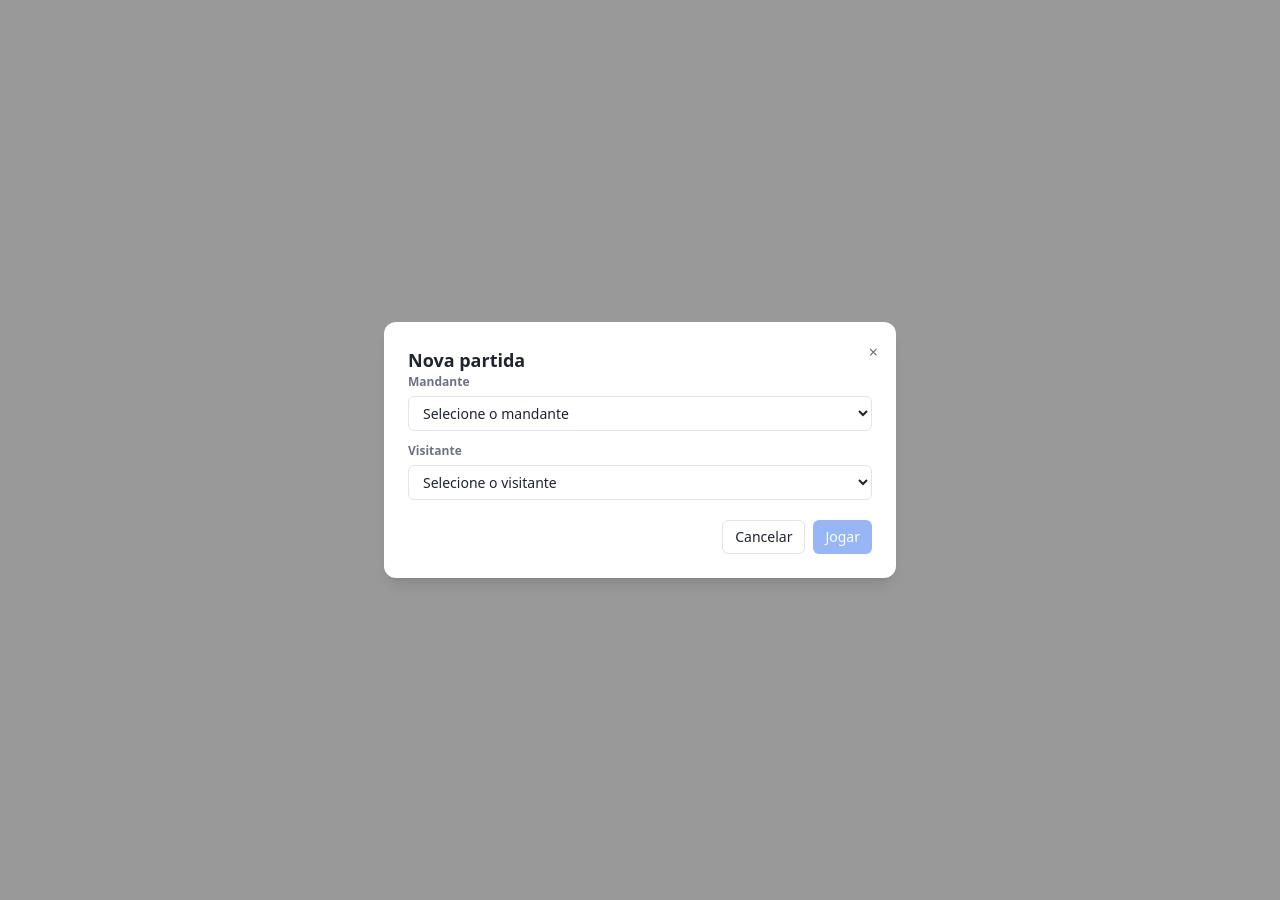
NewMatchModal › mostra o message da API quando createMatch falha
This screenshot has width=1280, height=900.
Select "Clube A" in the dropdown labelled "Mandante" at (640, 414), box [408,396,872,431]
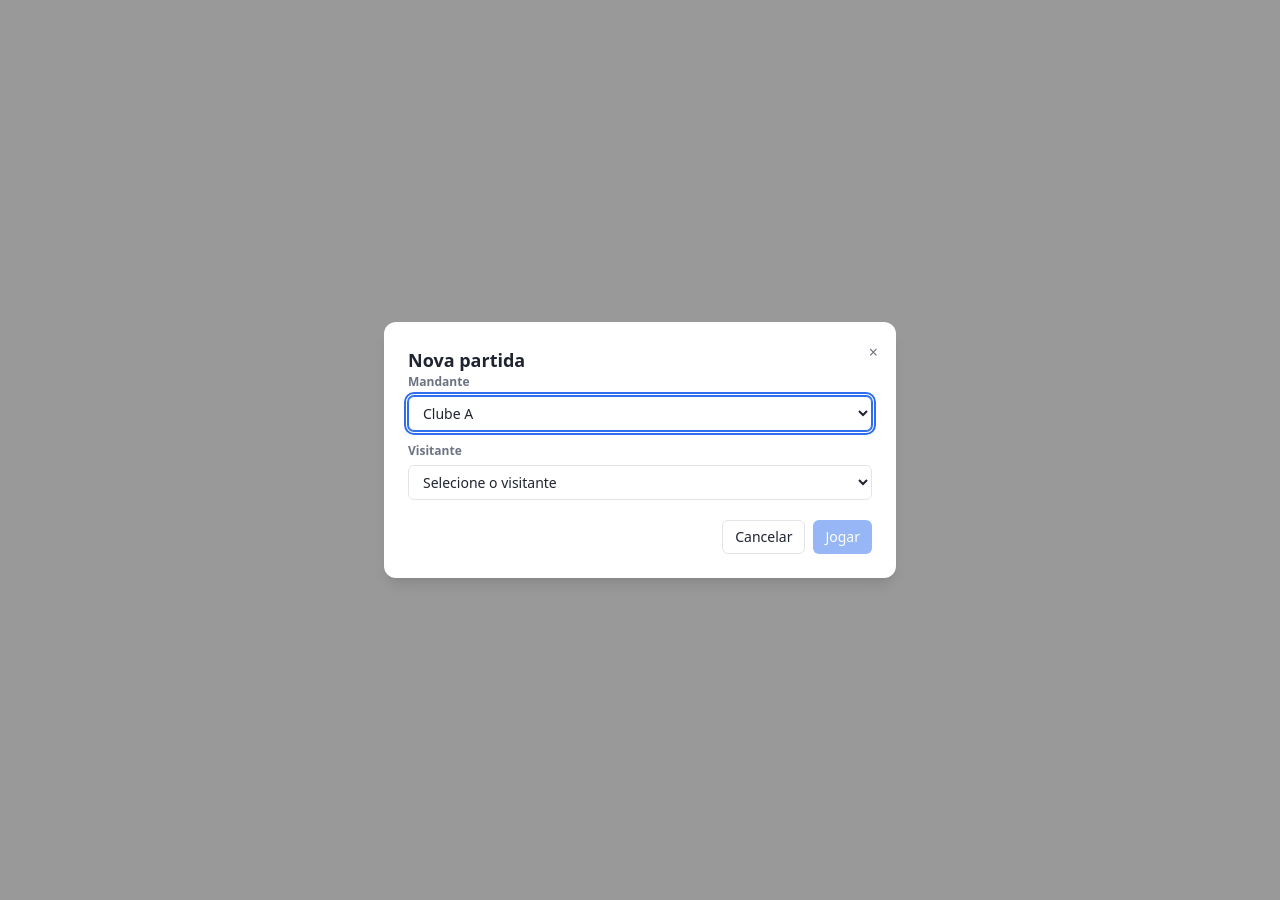
Select "Clube B" in the dropdown labelled "Visitante" at (640, 482), box [408,465,872,500]
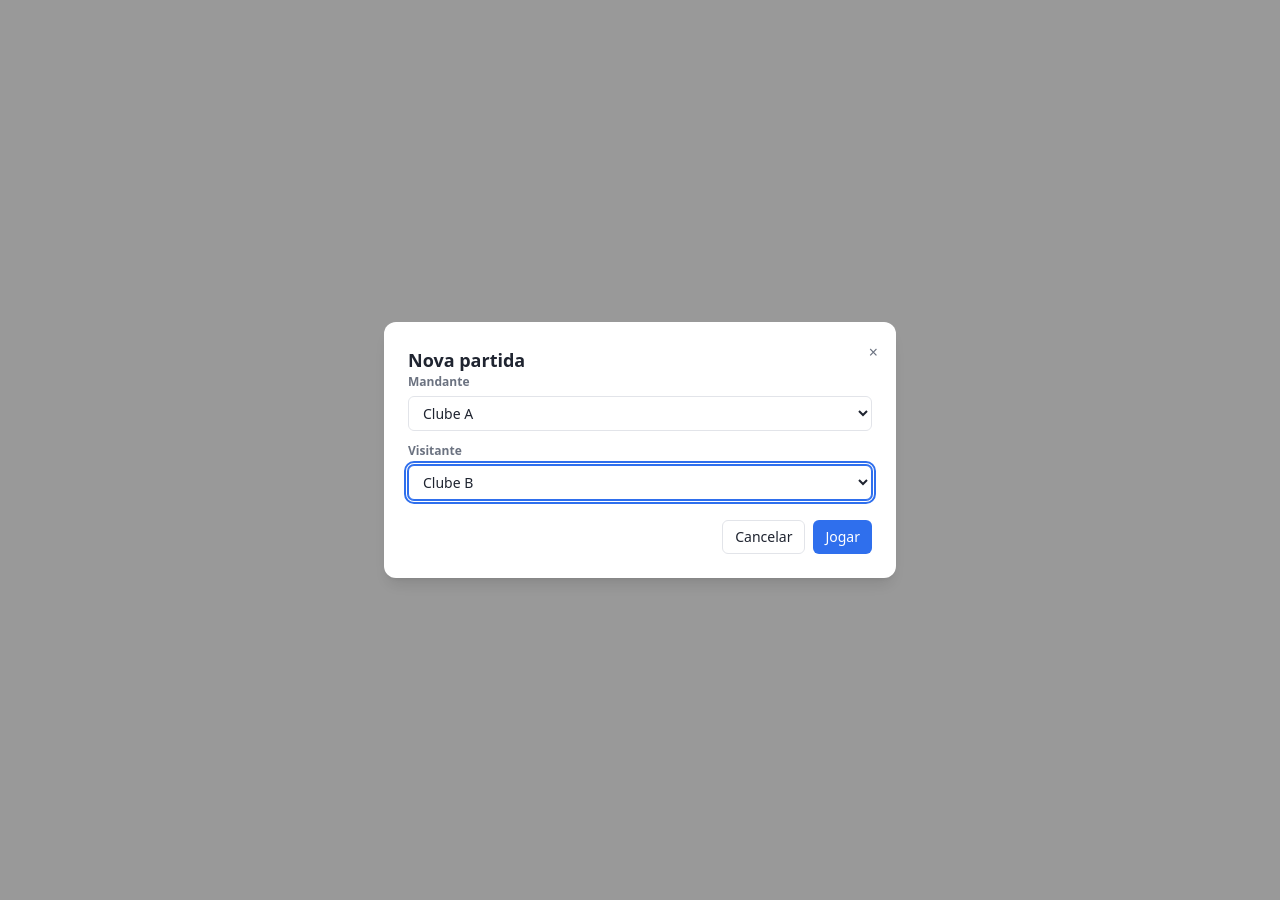
Click the button "Jogar" at (843, 537), box [814,520,872,554]
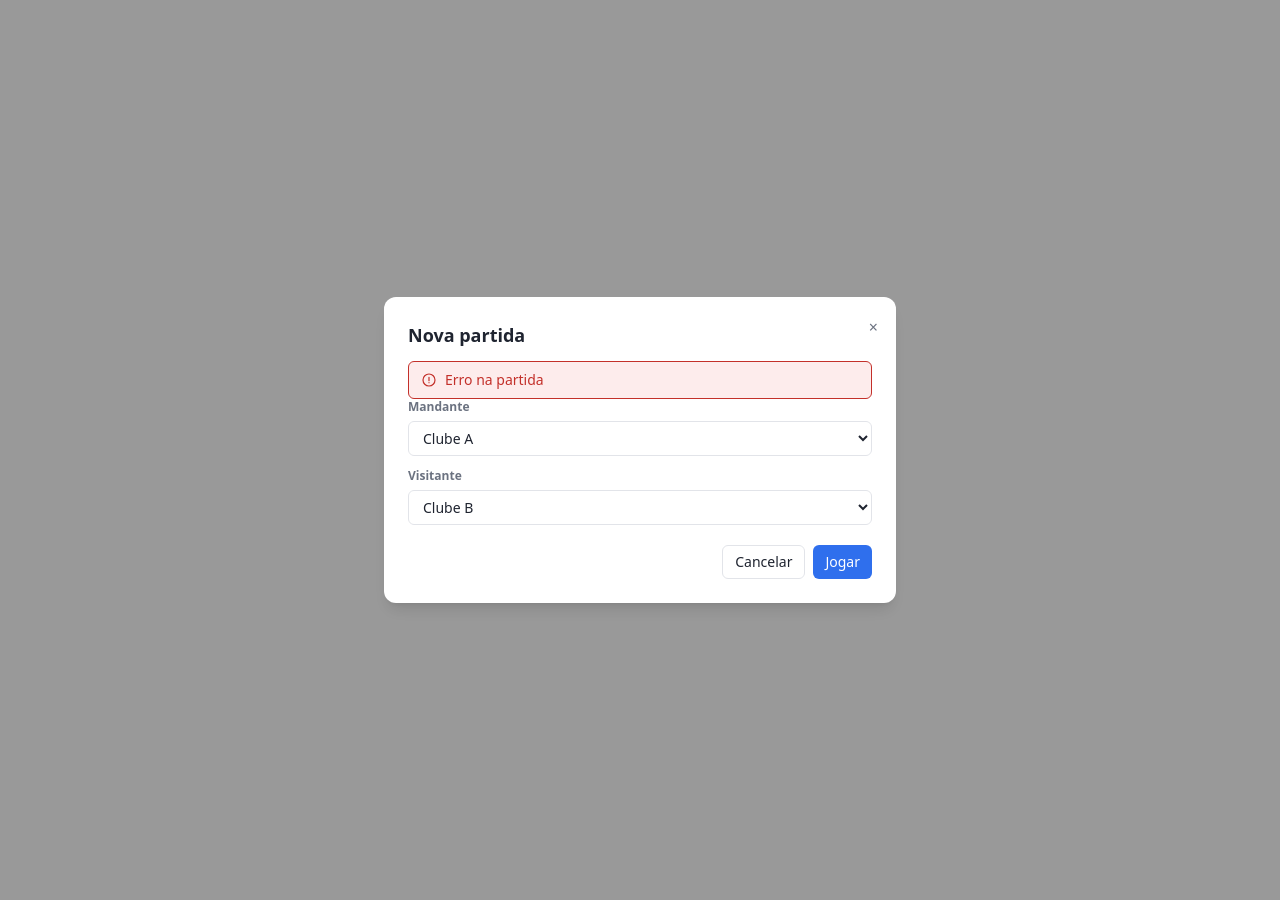
Expected: the text "Erro na partida" is shown, [408,361,872,399]
